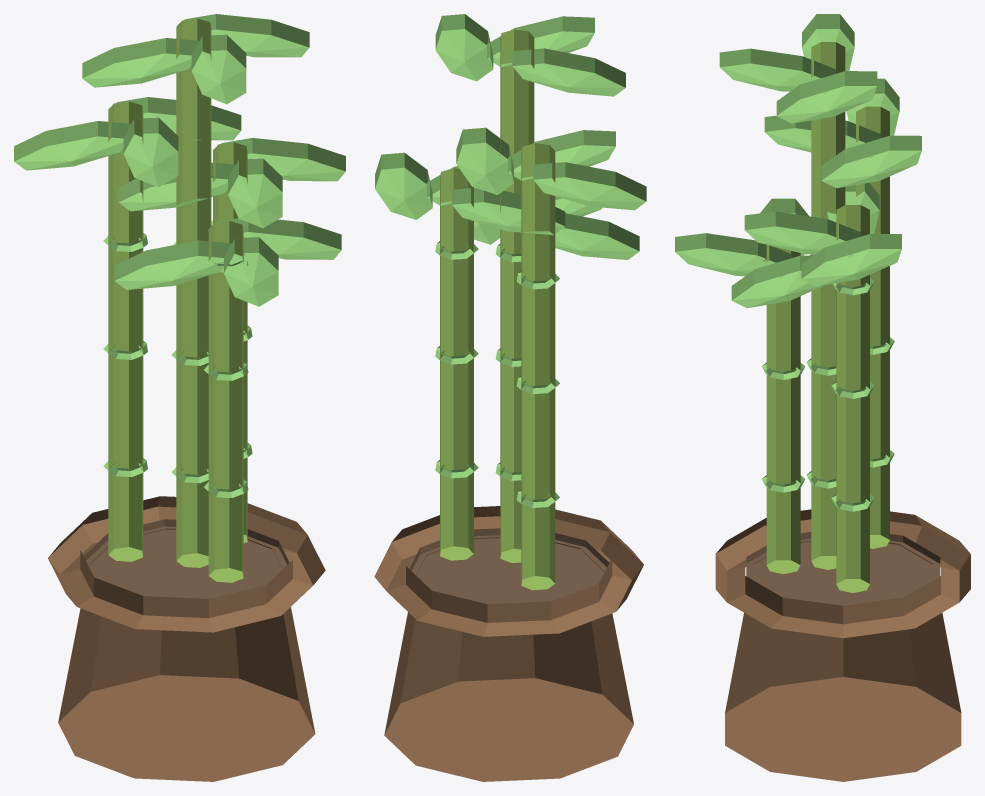
File: plant_bamboo.glb
3 views of the same model, side by side, from view 1: azimuth 30°, elevation 25°; view 2: azimuth 150°, elevation 25°; view 3: azimuth 270°, elevation 25° (orthographic). The views are drawn at different scales.
Parts seen in each view (by area): view 1: plant_bamboo; view 2: plant_bamboo; view 3: plant_bamboo.
Part boxes in pixels (x1,y1,x2,y2): plant_bamboo: (14, 14, 345, 781); plant_bamboo: (374, 14, 646, 781); plant_bamboo: (675, 14, 970, 781).
Size of the model in its own units: 0.6615 by 1.51 by 0.5949.
